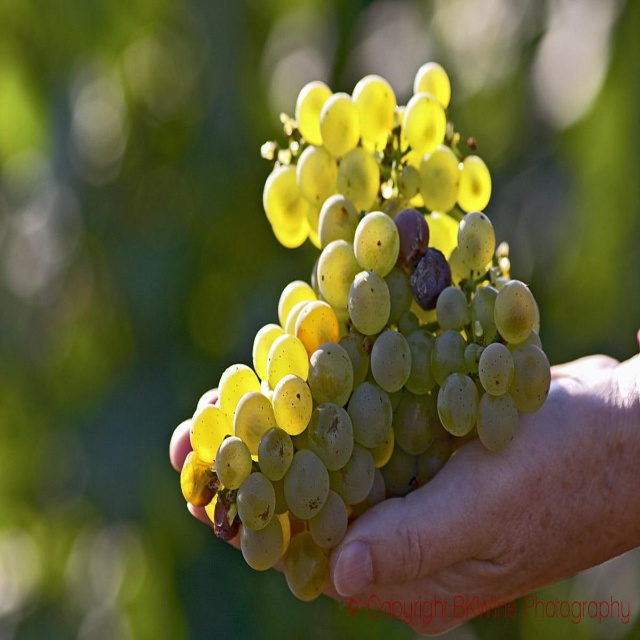grape: (171, 60, 557, 606)
